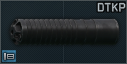AK Hexagon DTKP MK.2 7.62x39 sound suppressor: (0, 0, 127, 64)
